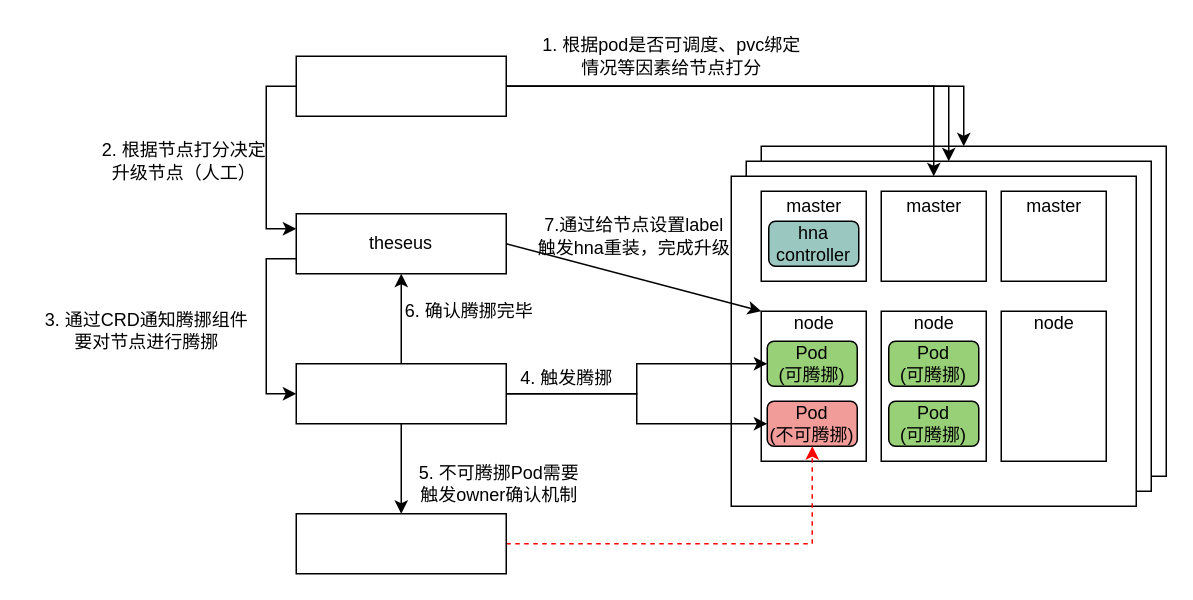
Image size: 1193x600. Some labels were removed from this diagram. Here are the shapes that lost their labels. From the top down, the box of each, then its label:
(295, 55, 506, 116): node-score
(295, 362, 506, 424): crane-nodeoperation
(295, 512, 506, 574): 企业微信用户确认
